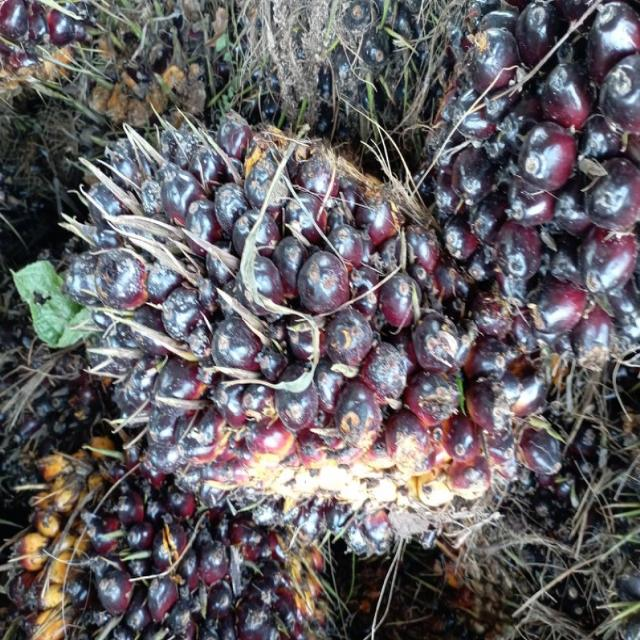fraksi 1: (58, 85, 553, 573)
